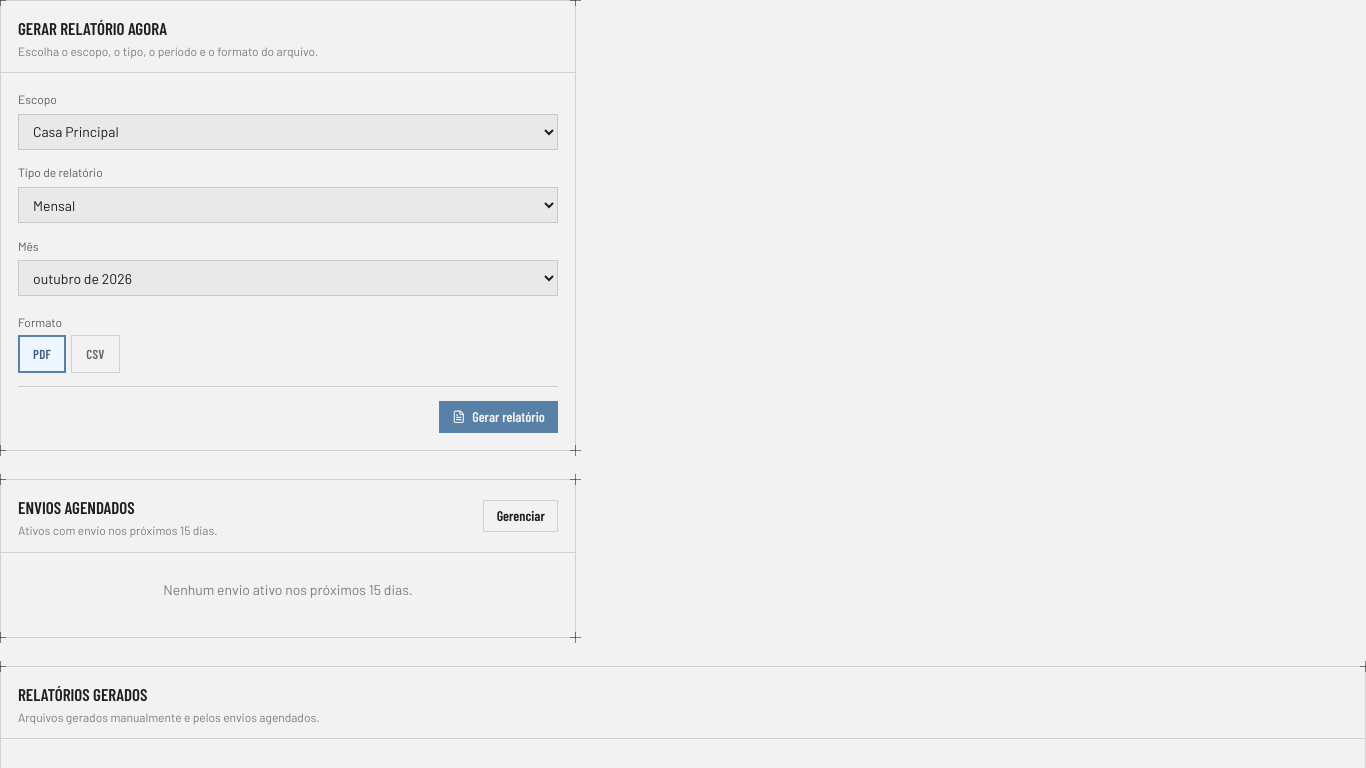
ReportsPage › tipos de relatório › oferece alertas e qualidade de energia, com período livre
Expected: the dropdown labelled "Escopo" is shown, [18,114,558,150]
Select "Qualidade de energia" in the dropdown labelled "Tipo de relatório" at (288, 205), box [18,187,558,223]
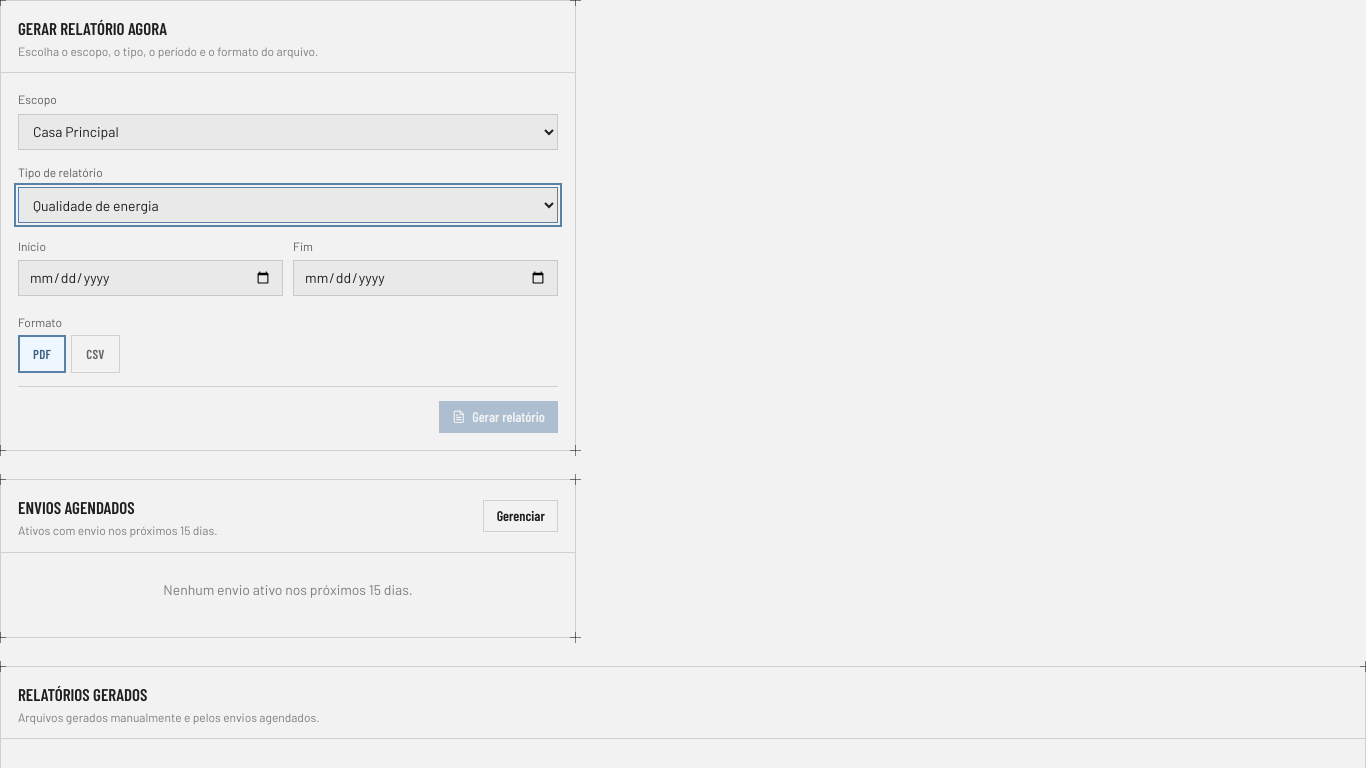
Now the date field labelled "Início" is shown, box [18,260,283,296]
Now the label labelled "Mês" is gone
